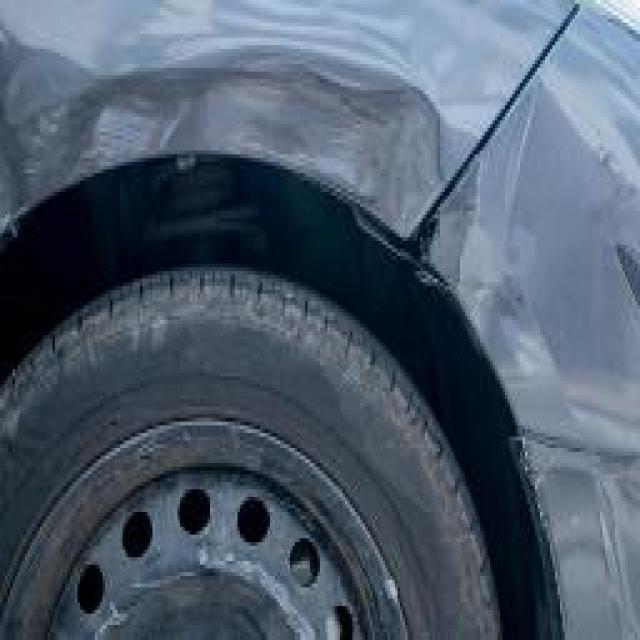Bumper: (448, 38, 640, 640)
Fender: (55, 23, 440, 226)
